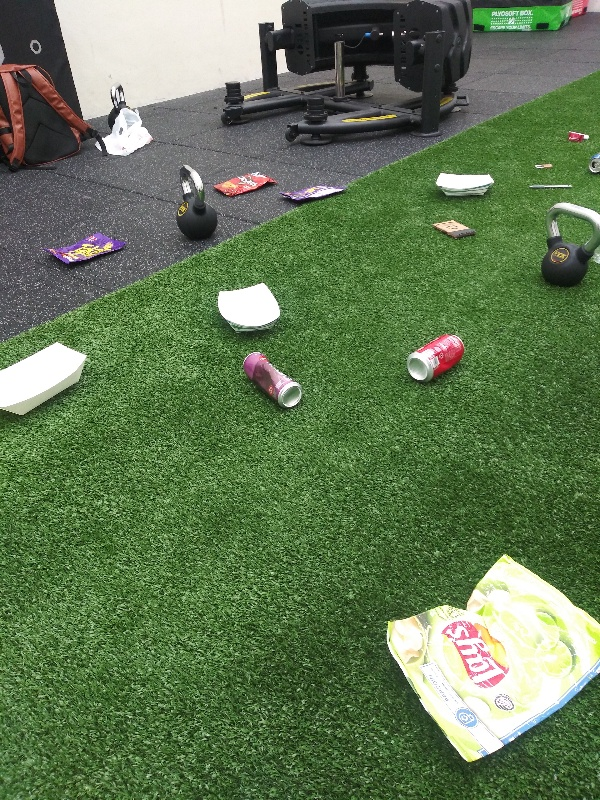bag: (378, 548, 600, 778), (42, 225, 134, 268), (210, 170, 277, 201), (277, 182, 351, 203)
can: (229, 350, 305, 411), (401, 330, 468, 387), (585, 149, 600, 177)
plate: (1, 336, 89, 421), (212, 281, 286, 338), (429, 169, 499, 199)
